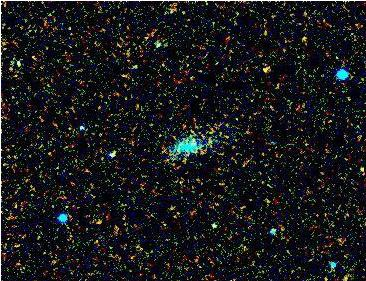star: (247, 50, 277, 80)
